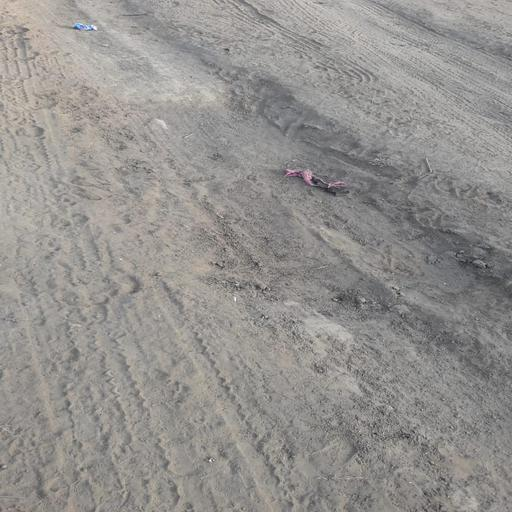vehicle_track: (0, 0, 323, 512)
